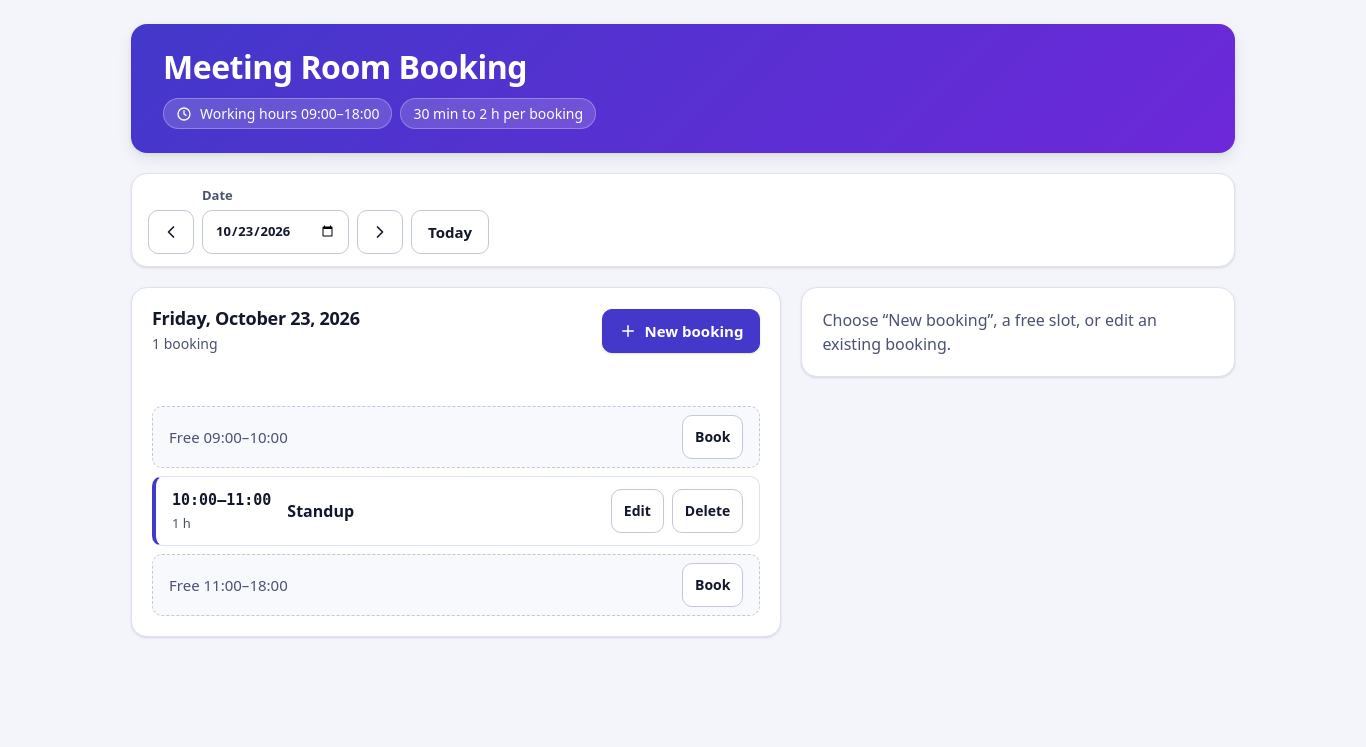
Test case: editing › offers to recreate when the booking was deleted by someone else
Click the button with aria-label "Edit booking 10:00–11:00" at [637, 512], box [611,490,664,534]
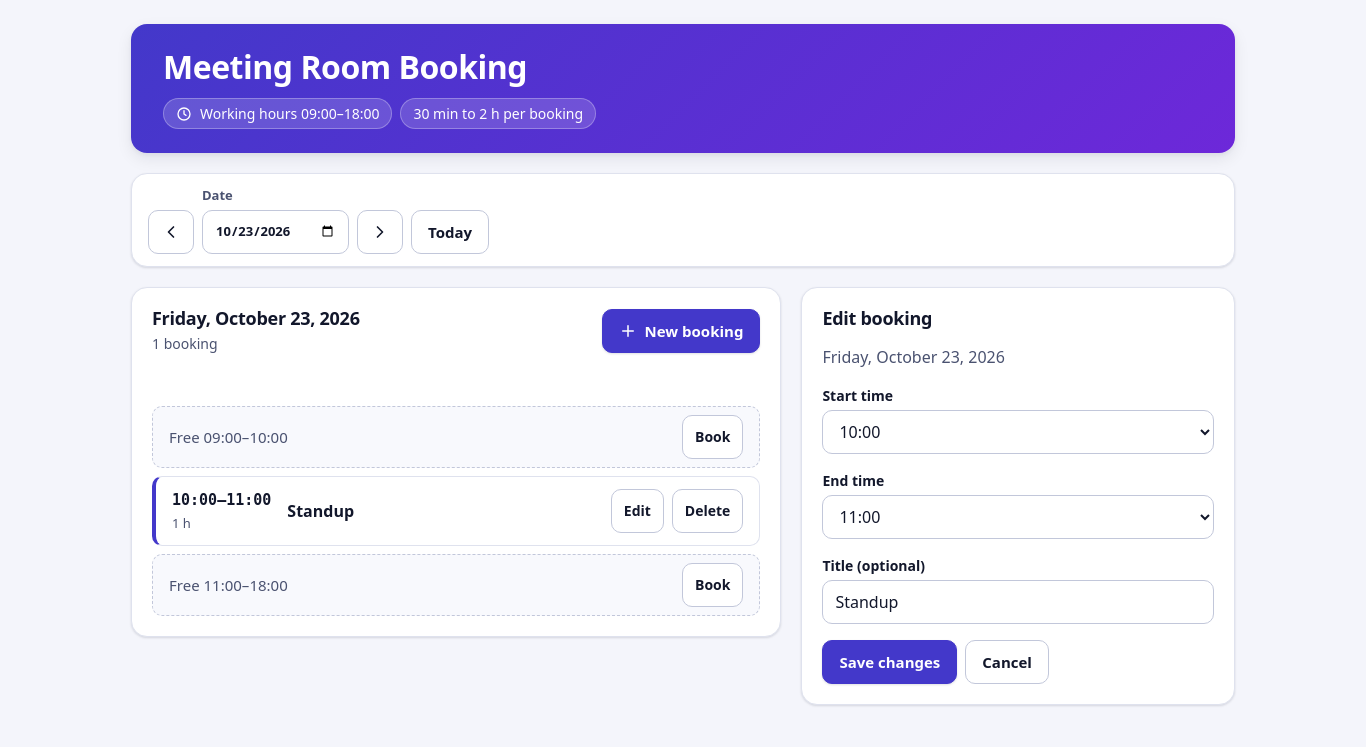
Select "11:30" in the dropdown labelled "End time" at [1018, 518], box [822,496,1214,540]
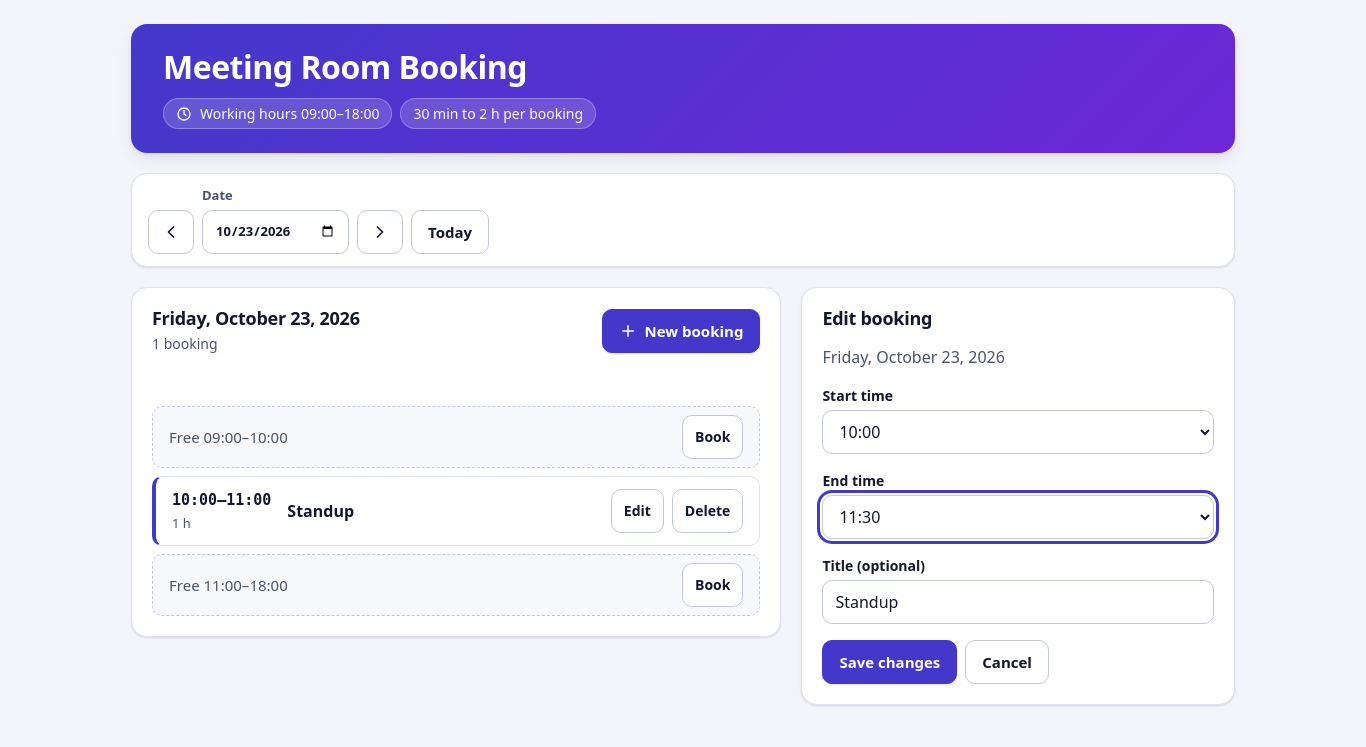
Click the button "Save changes" at [890, 662], box [822,640,957,684]
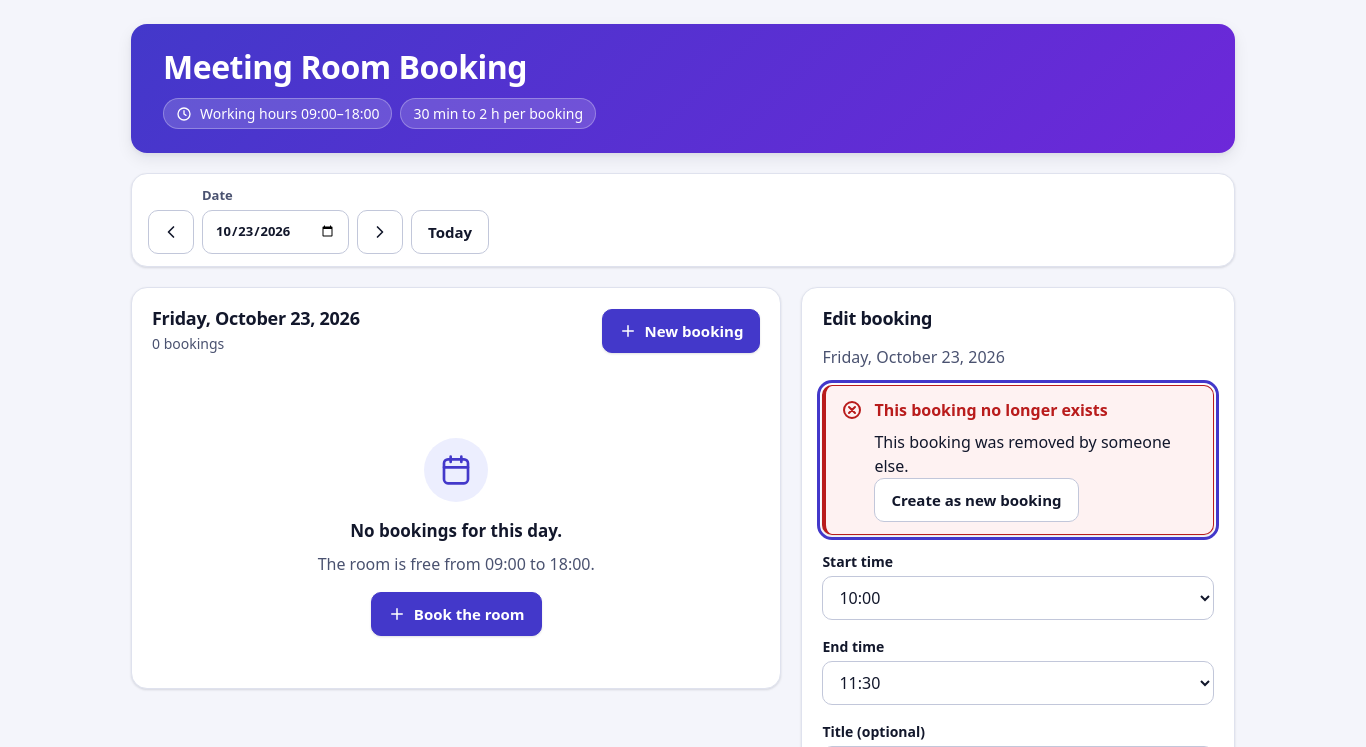
Now the message that starts with "This booking no longer exists" shows "removed by someone else", box [874,432,1171,478]
Click the button "Create as new booking" at [976, 500], box [874,478,1078,522]
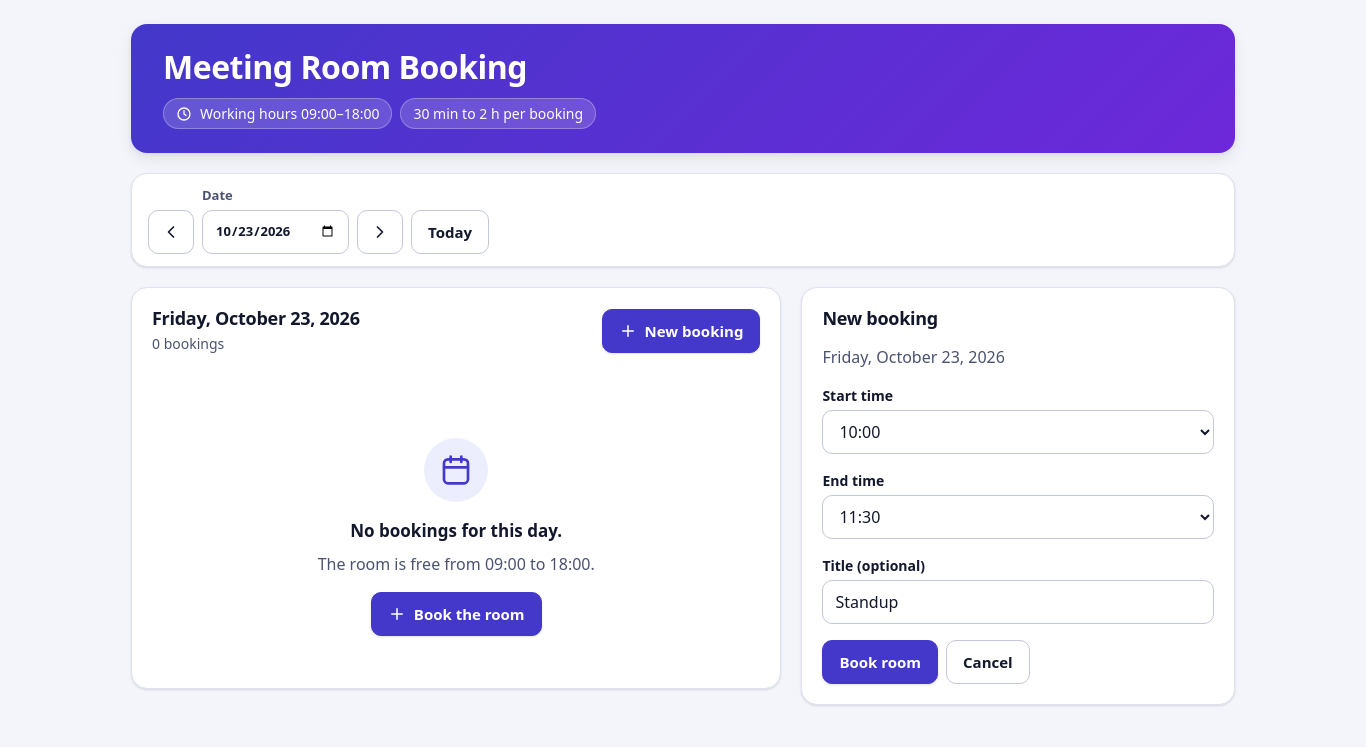
Now the dropdown labelled "Start time" shows "10:00", box [822,410,1214,454]
Now the dropdown labelled "End time" shows "11:30", box [822,496,1214,540]
Now the heading "New booking" is shown, box [822,306,938,330]
